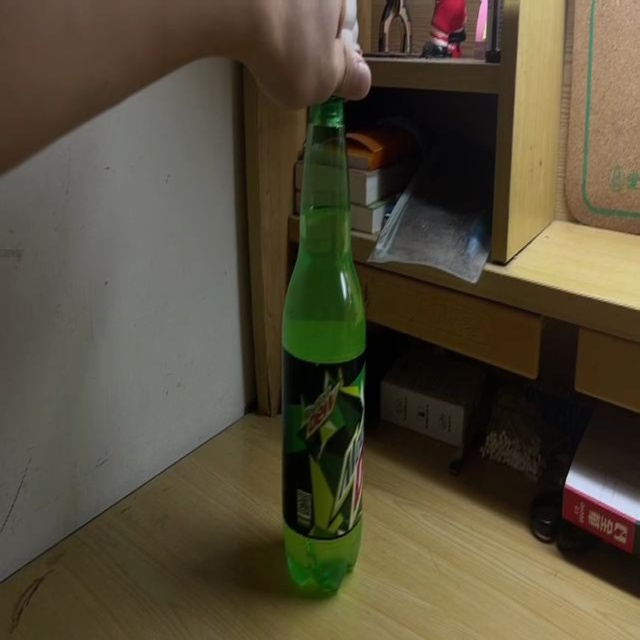Mountain-Dew: (280, 58, 365, 592)
